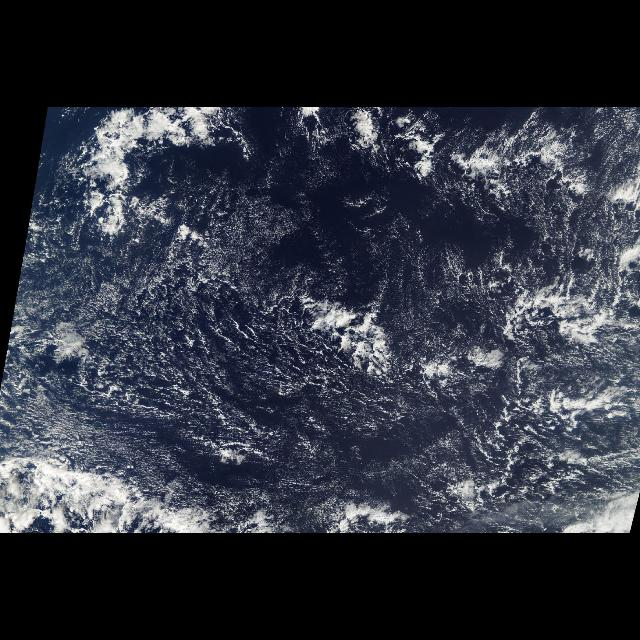Fish: (36, 108, 640, 242)
Gravel: (45, 125, 639, 509)
Sugar: (1, 230, 321, 470)
